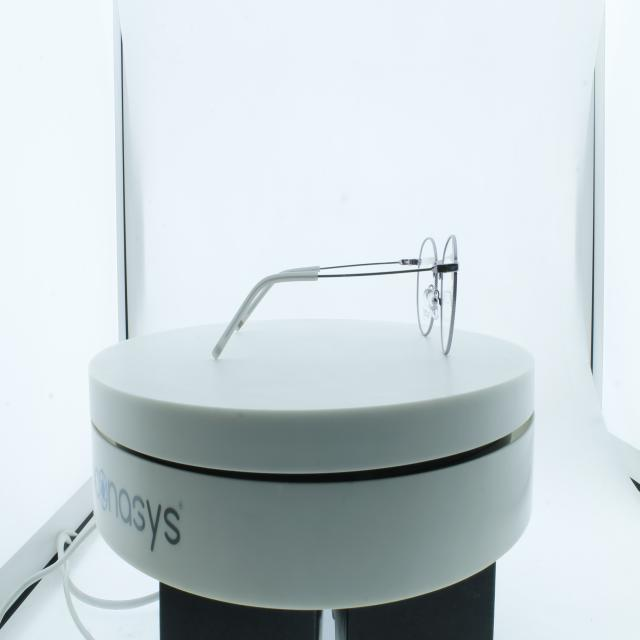Specs: (202, 229, 468, 371)
